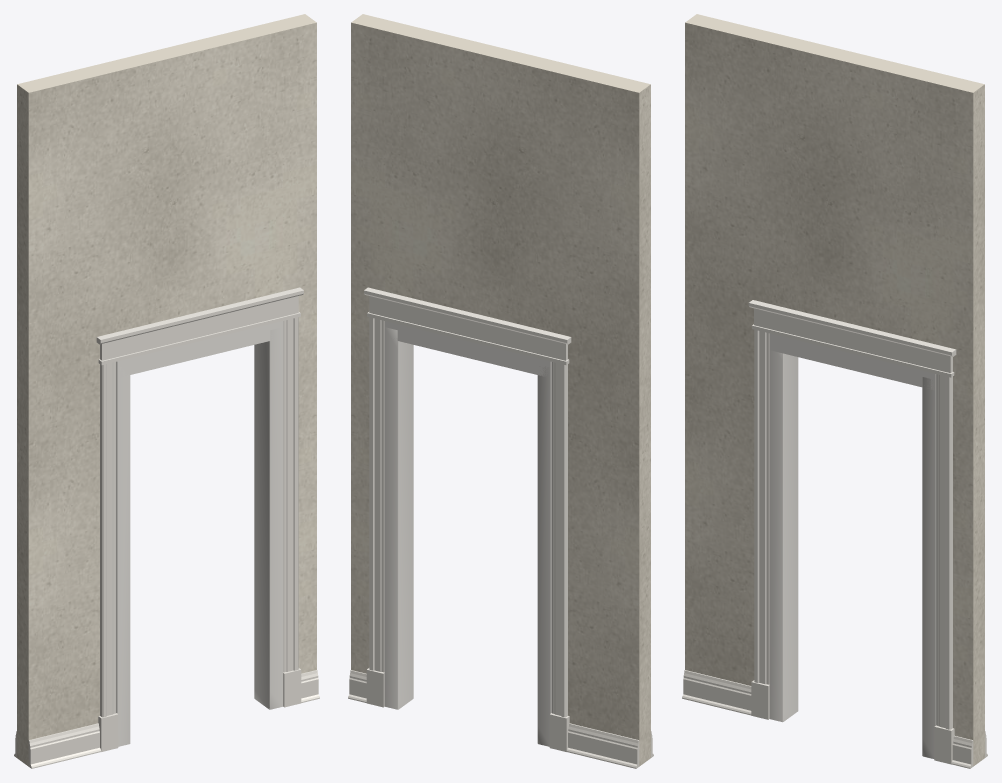
The model's file is interior_wall_end_doorway_shop.glb.
3 renders of one model, left to right at view 1: azimuth 30°, elevation 25°; view 2: azimuth 150°, elevation 25°; view 3: azimuth 330°, elevation 25°, orthographic.
Visible parts, largest first — view 1: interior_wall_end_doorway_shop_plaster, molduras, interior_wall_end_doorway_shop_frame; view 2: interior_wall_end_doorway_shop_plaster, molduras, interior_wall_end_doorway_shop_frame; view 3: interior_wall_end_doorway_shop_plaster, molduras, interior_wall_end_doorway_shop_frame.
Boxes of the visible parts, left/top/right/bottom form: interior_wall_end_doorway_shop_plaster: left=17, top=14, right=316, bottom=766; molduras: left=14, top=287, right=319, bottom=768; interior_wall_end_doorway_shop_frame: left=116, top=321, right=283, bottom=746; interior_wall_end_doorway_shop_plaster: left=351, top=14, right=650, bottom=766; molduras: left=348, top=287, right=653, bottom=768; interior_wall_end_doorway_shop_frame: left=384, top=321, right=551, bottom=746; interior_wall_end_doorway_shop_plaster: left=685, top=14, right=984, bottom=766; molduras: left=682, top=300, right=987, bottom=768; interior_wall_end_doorway_shop_frame: left=769, top=333, right=936, bottom=758.
Bounding box in the file's own units: 1.7 × 3.8 × 0.204.
3 materials, 1 textured.
